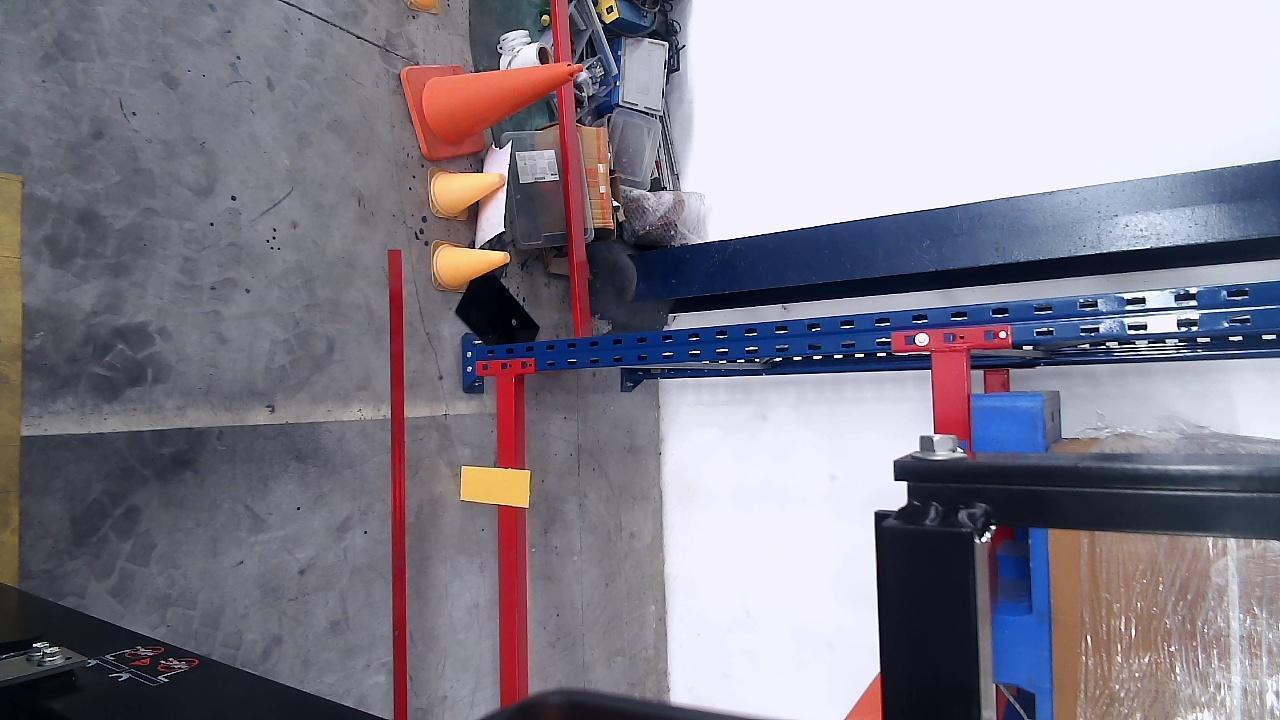red_line: (387, 248, 410, 718)
yellow_line: (2, 172, 20, 588)
